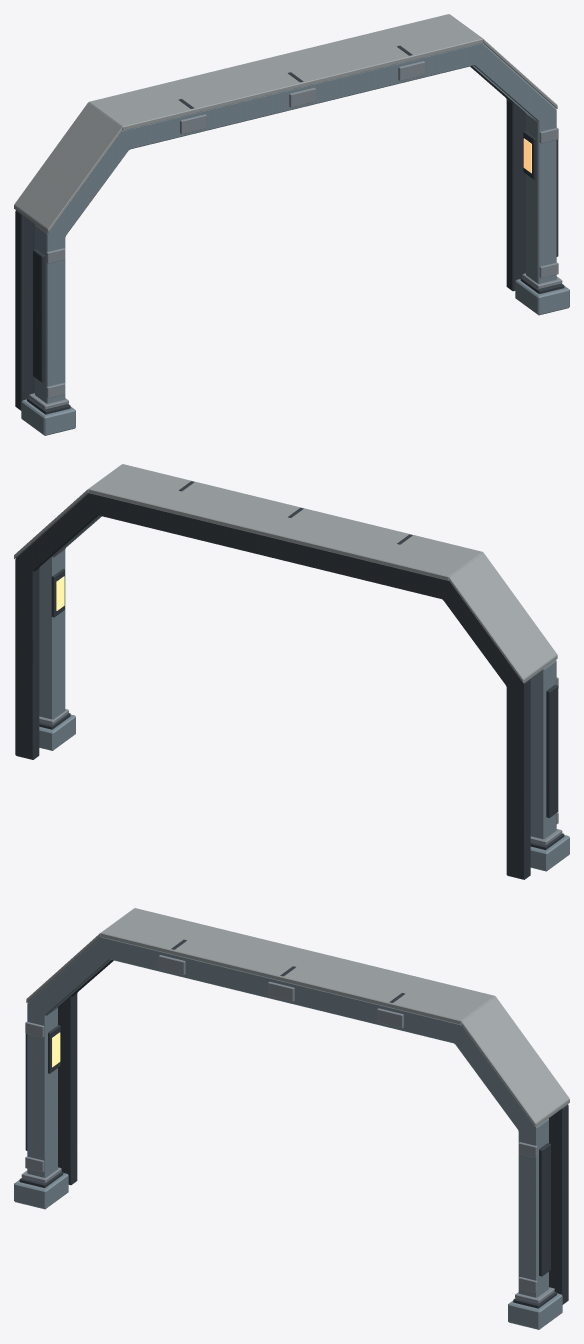
Rendered from NA_GalleryPortal_A_LOD1.fbx.
3 renders of one model, top to bottom at view 1: azimuth 30°, elevation 25°; view 2: azimuth 150°, elevation 25°; view 3: azimuth 330°, elevation 25°, orthographic.
Parts seen in each view (by area): view 1: NA_GalleryPortal_A_LOD1; view 2: NA_GalleryPortal_A_LOD1; view 3: NA_GalleryPortal_A_LOD1.
Boxes of the visible parts, x1=… form: NA_GalleryPortal_A_LOD1: x1=14, y1=14, x2=569, y2=435; NA_GalleryPortal_A_LOD1: x1=14, y1=464, x2=569, y2=879; NA_GalleryPortal_A_LOD1: x1=14, y1=908, x2=569, y2=1329.
Bounding box in the file's own units: 30.86 × 16.08 × 3.95.
